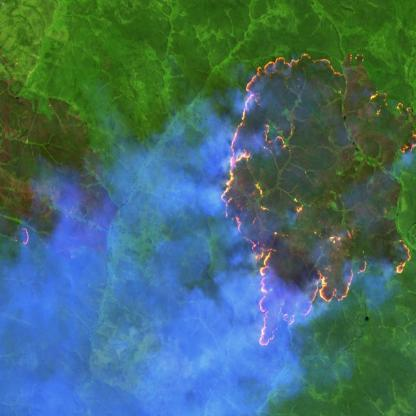fire: (216, 35, 416, 363), (10, 219, 36, 259)
